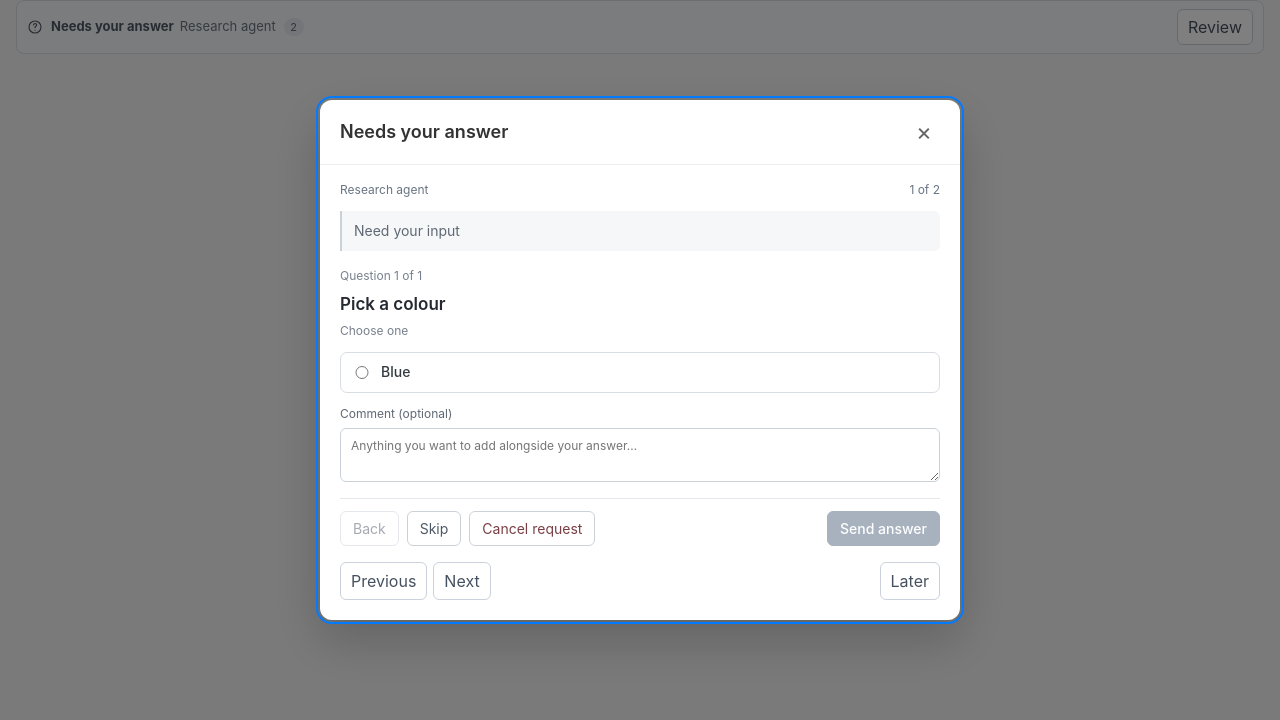
Scenario: PendingQuestionDock › queues one live form at a time with stable owner-scoped draft keys
Expected: the text with test id "question-count" reads "2", [290, 20, 297, 34]
Expected: the number of elements with test id "question-rich" is 1, [340, 211, 940, 546]
Click the button with test id "question-next-pending".
click(462, 581)  # box [433, 562, 491, 600]
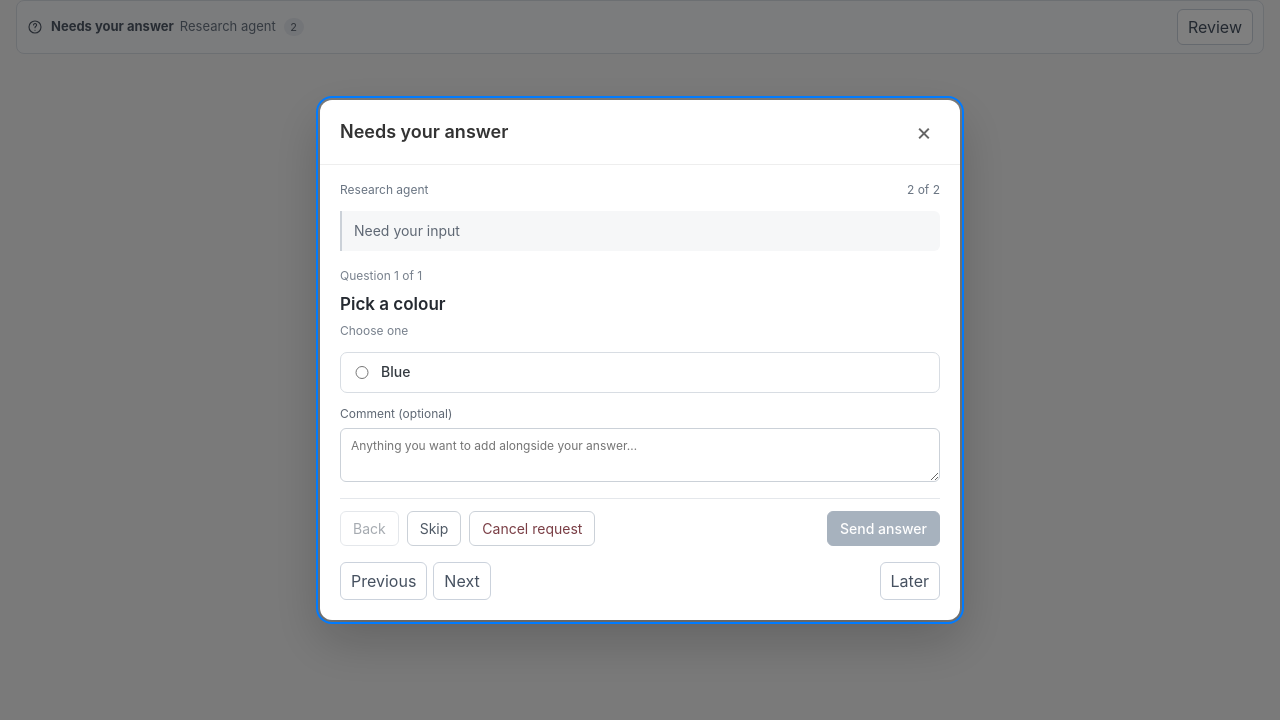
Expected: the element with test id "question-review-modal" shows "Research agent", [340, 182, 428, 197]
Now the text with test id "question-queue-position" reads "2 of 2", box [907, 182, 940, 197]
